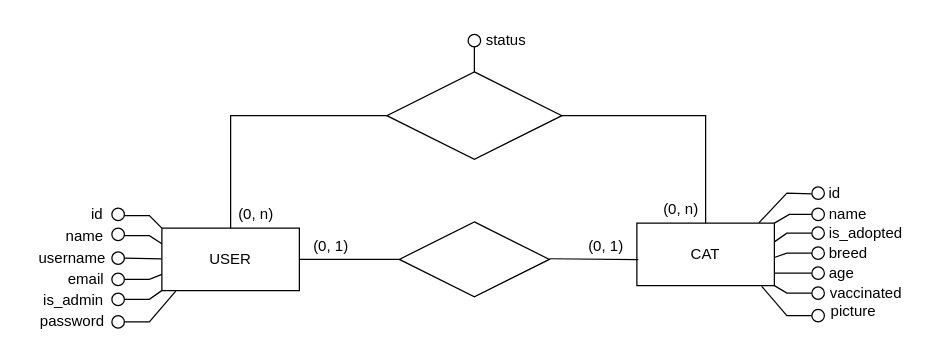
Image size: 944x361. Some labels were removed from this diagram. Here are the shapes that lost their labels. From the top down, the centre of each, then its label:
point 474,115: requests_to _ adopt
point 473,259: adopts
